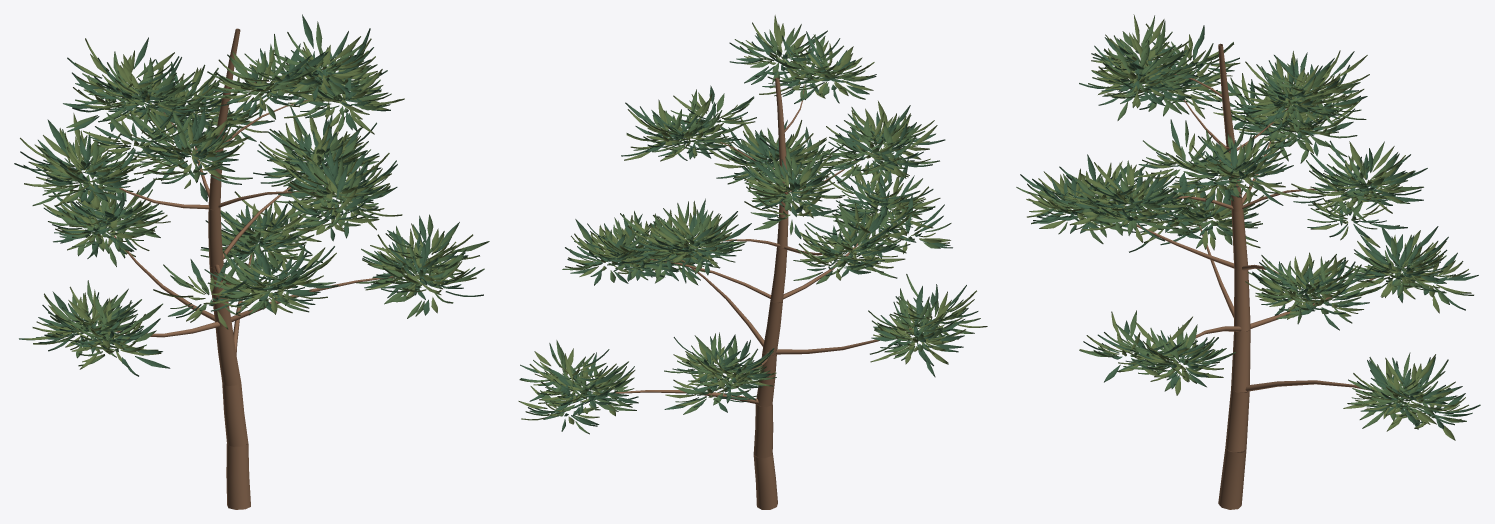
The model's file is Pin_Laricio_1_High.fbx.
3 views of the same model, side by side, from view 1: azimuth 30°, elevation 25°; view 2: azimuth 150°, elevation 25°; view 3: azimuth 270°, elevation 25° (orthographic). The views are drawn at different scales.
Parts seen in each view (by area): view 1: Pin_Laricio_1_High; view 2: Pin_Laricio_1_High; view 3: Pin_Laricio_1_High.
Boxes of the visible parts, x1,y1,x2,y2 form: Pin_Laricio_1_High: [14, 14, 489, 509]; Pin_Laricio_1_High: [518, 15, 987, 509]; Pin_Laricio_1_High: [1016, 14, 1480, 509].
Bounding box in the file's own units: 748 × 841 × 747.
